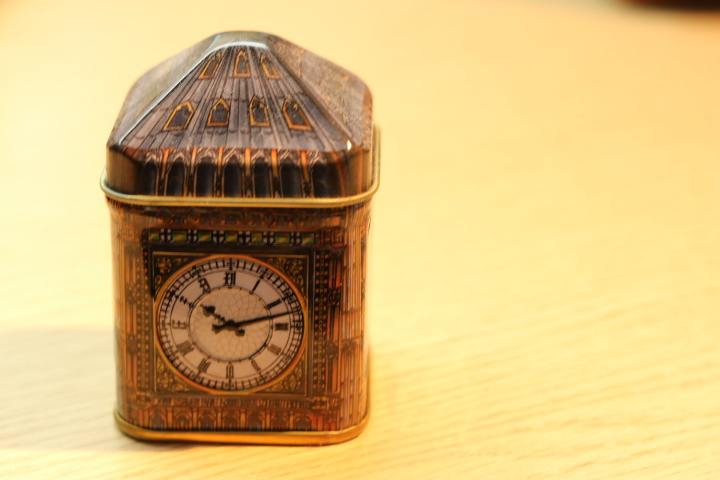Big Ben: (95, 17, 385, 455)
